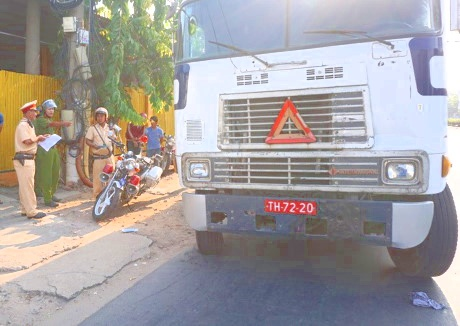plate: (263, 196, 318, 217)
